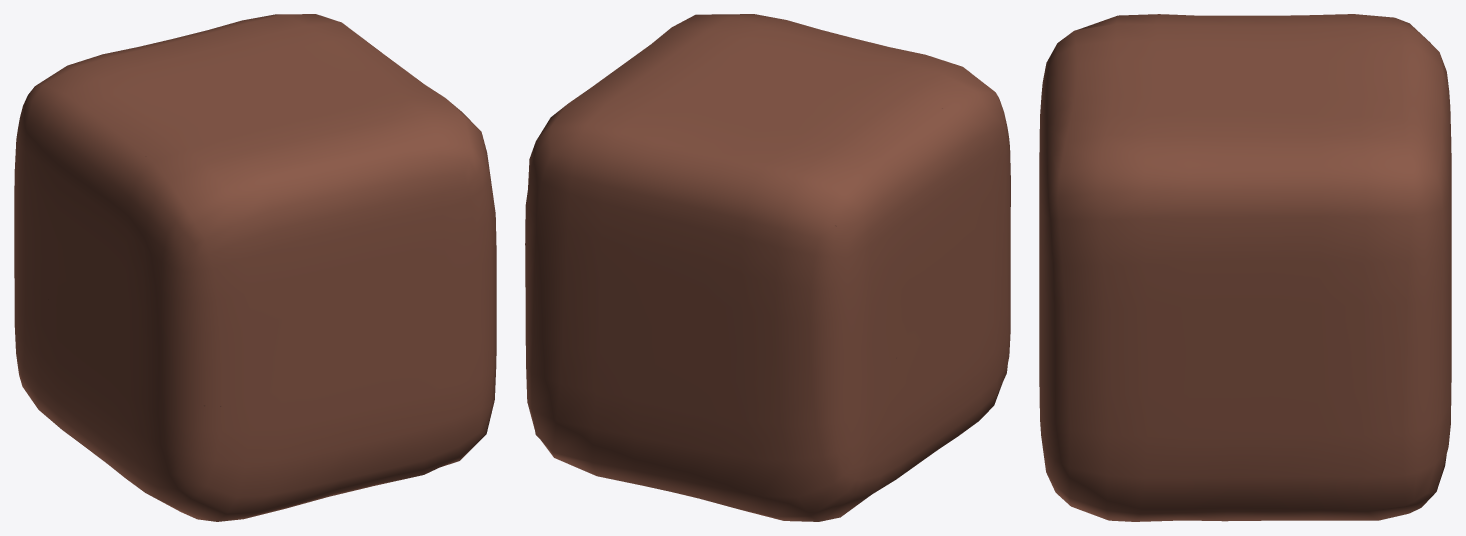
The model's file is Dirt.fbx.
3 renders of one model, left to right at view 1: azimuth 30°, elevation 25°; view 2: azimuth 150°, elevation 25°; view 3: azimuth 270°, elevation 25°, orthographic. The views are drawn at different scales.
Visible parts, largest first — view 1: LOW; view 2: LOW; view 3: LOW.
Part boxes in pixels (x1,y1,x2,y2): LOW: (14,14,496,521); LOW: (525,14,1010,521); LOW: (1039,14,1451,521).
Size of the model in its own units: 1.03 by 1.03 by 1.03.
1 material, 1 textured.
